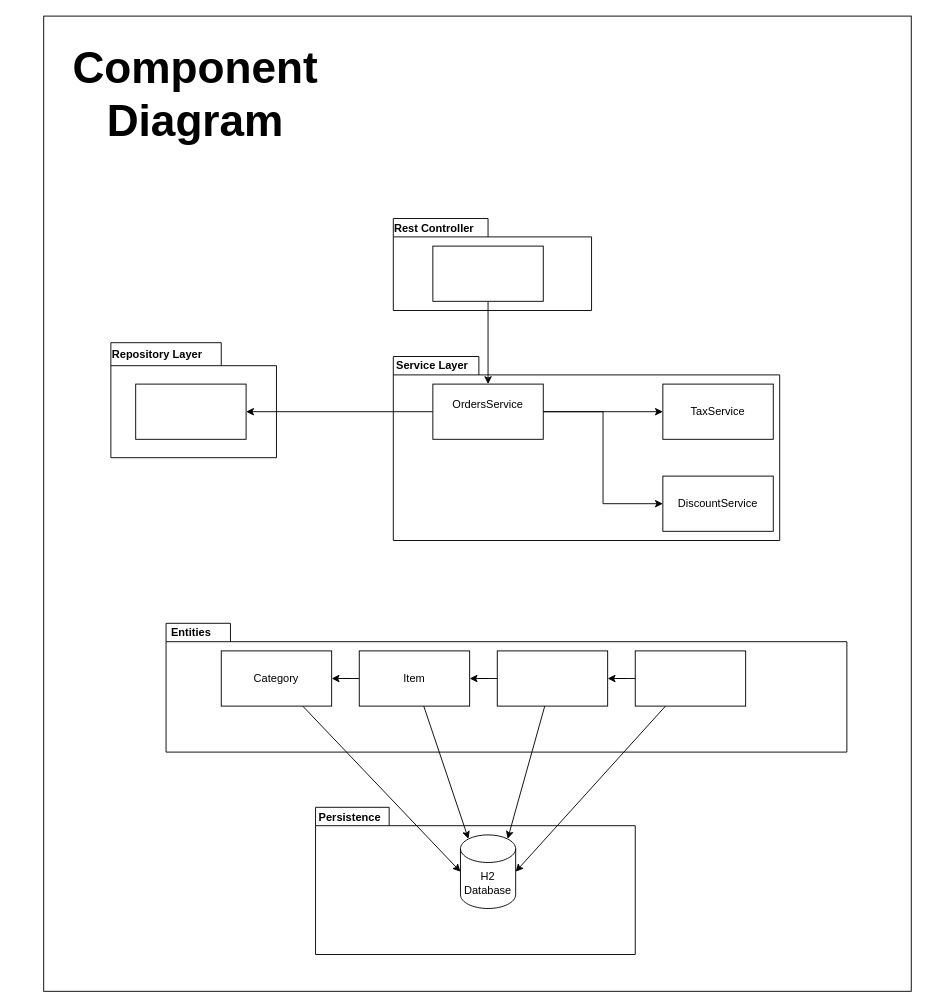
This 927x1007 diagram has some shape labels left out. Each missing label, with the centre of its shape:
ItemRepository: point 190,411
Order: point 690,678
OrderItem: point 552,678
OrderRestController: point 487,273
